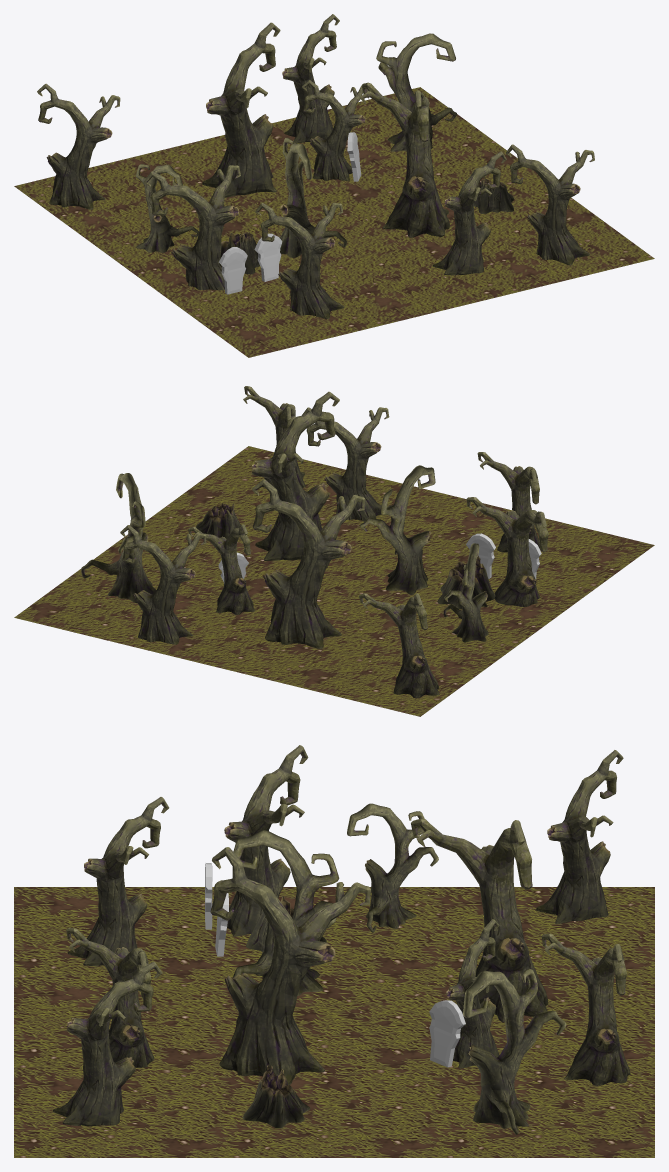
The model's file is Edge_Diorama_7.fbx.
3 views of the same model, one above another, from view 1: azimuth 30°, elevation 25°; view 2: azimuth 150°, elevation 25°; view 3: azimuth 270°, elevation 25° (orthographic). The views are drawn at different scales.
Visible parts, largest first — view 1: Floor031; view 2: Floor031; view 3: Floor031.
Part boxes in pixels (box(x1,y1,x2,y2)): Floor031: box(14, 14, 654, 357); Floor031: box(14, 386, 654, 716); Floor031: box(14, 745, 654, 1157).
Size of the model in its own units: 450 by 177 by 450.
